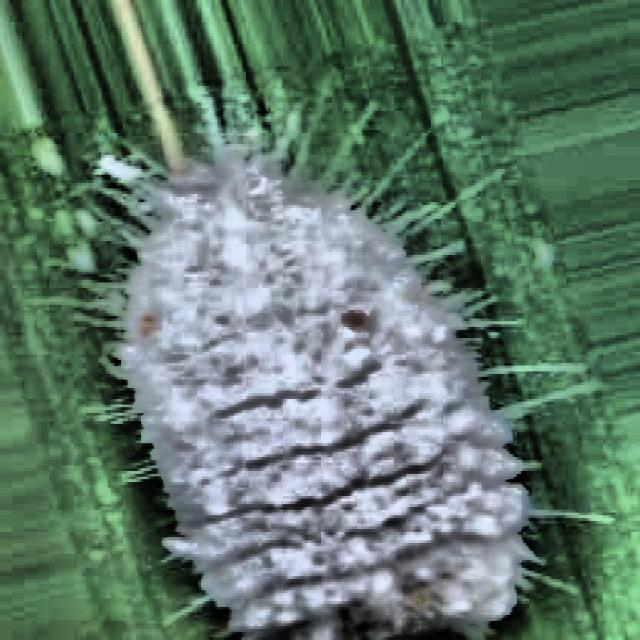Mealy-bug: (42, 79, 588, 640)
